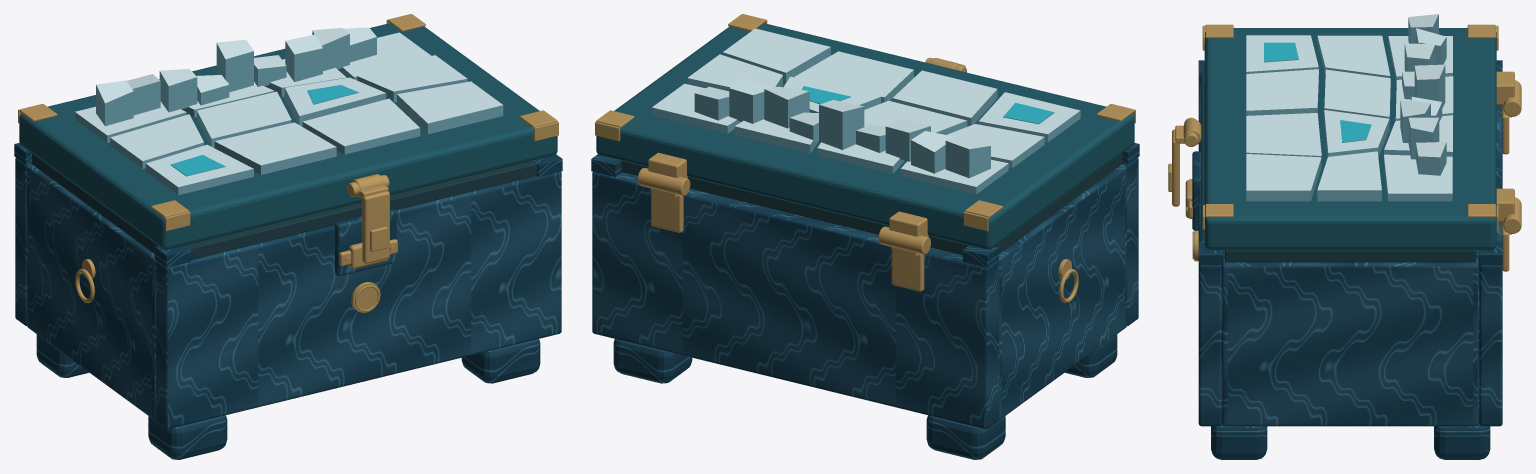
The model's file is arctic.glb.
3 renders of one model, left to right at view 1: azimuth 30°, elevation 25°; view 2: azimuth 150°, elevation 25°; view 3: azimuth 270°, elevation 25°, orthographic.
Parts seen in each view (by area): view 1: Ocean / front, Lid / polished slab, Ocean / side, Mineral seam / long, Floe / 2 0, Floe / 1 0, Floe / 3 0, Floe / 1 1, Floe / 0 1, Floe / 0 0, Floe / 3 1, Ocean / foot (+24 smaller); view 2: Ocean / rear, Lid / polished slab, Ocean / side, Floe / 1 0, Floe / 2 0, Floe / 3 0, Mineral seam / long.001, Ocean / foot.001, Floe / 0 0, Ocean / foot.003, Floe / 0 1, Floe / 3 1 (+26 smaller); view 3: Ocean / side.001, Lid / polished slab, Ocean / rear, Ocean / front, Floe / 3 0, Mineral seam / side.001, Floe / 1 0, Floe / 2 0, Floe / 3 1, Floe / 1 1, Floe / 3 2, Floe / 0 1 (+29 smaller).
Boxes of the visible parts, bbox=[...] form: Ocean / front: bbox=[156, 171, 561, 429]; Lid / polished slab: bbox=[19, 23, 557, 249]; Ocean / side: bbox=[27, 164, 156, 420]; Mineral seam / long: bbox=[185, 160, 537, 259]; Floe / 2 0: bbox=[302, 98, 420, 154]; Floe / 1 0: bbox=[214, 122, 336, 174]; Floe / 3 0: bbox=[397, 81, 503, 134]; Floe / 1 1: bbox=[197, 91, 291, 147]; Floe / 0 1: bbox=[110, 114, 203, 168]; Floe / 0 0: bbox=[145, 144, 253, 195]; Floe / 3 1: bbox=[357, 55, 467, 102]; Ocean / foot: bbox=[148, 415, 227, 459]; Ocean / rear: bbox=[592, 171, 997, 429]; Lid / polished slab: bbox=[596, 23, 1134, 249]; Ocean / side: bbox=[997, 164, 1126, 420]; Floe / 1 0: bbox=[892, 70, 997, 126]; Floe / 2 0: bbox=[794, 51, 913, 103]; Floe / 3 0: bbox=[722, 28, 830, 83]; Mineral seam / long.001: bbox=[621, 161, 968, 254]; Ocean / foot.001: bbox=[926, 415, 1005, 459]; Floe / 0 0: bbox=[978, 92, 1080, 142]; Ocean / foot.003: bbox=[613, 339, 692, 383]; Floe / 0 1: bbox=[946, 124, 1044, 168]; Floe / 3 1: bbox=[687, 54, 782, 91]; Ocean / side.001: bbox=[1222, 257, 1479, 426]; Lid / polished slab: bbox=[1204, 28, 1496, 250]; Ocean / rear: bbox=[1479, 105, 1502, 426]; Ocean / front: bbox=[1198, 84, 1221, 426]; Floe / 3 0: bbox=[1246, 154, 1321, 201]; Mineral seam / side.001: bbox=[1225, 250, 1476, 262]; Floe / 1 0: bbox=[1246, 69, 1318, 115]; Floe / 2 0: bbox=[1246, 113, 1321, 157]; Floe / 3 1: bbox=[1317, 151, 1381, 201]; Floe / 1 1: bbox=[1324, 69, 1390, 122]; Floe / 3 2: bbox=[1384, 154, 1452, 201]; Floe / 0 1: bbox=[1317, 35, 1390, 77].
Bounding box in the file's own units: 3.79 × 2.67 × 2.88.
7 materials, 1 textured.
